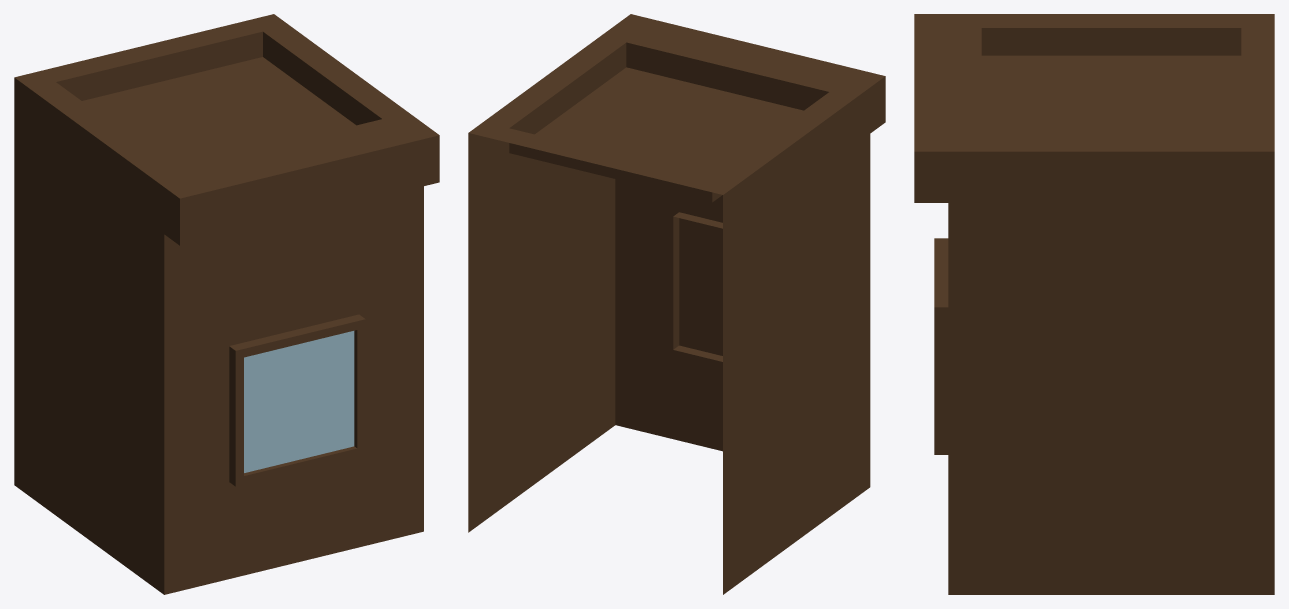
The model's file is BuildingFace.fbx.
The picture shows the model from 3 angles, left to right: view 1: azimuth 30°, elevation 25°; view 2: azimuth 150°, elevation 25°; view 3: azimuth 270°, elevation 25°; orthographic projection. The views are drawn at different scales.
Parts seen in each view (by area): view 1: pCube3; view 2: pCube3; view 3: pCube3.
Boxes of the visible parts, x1,y1,x2,y2 form: pCube3: [14, 14, 439, 594]; pCube3: [468, 14, 885, 594]; pCube3: [914, 14, 1274, 594].
Size of the model in its own units: 2 by 3 by 2.21.
